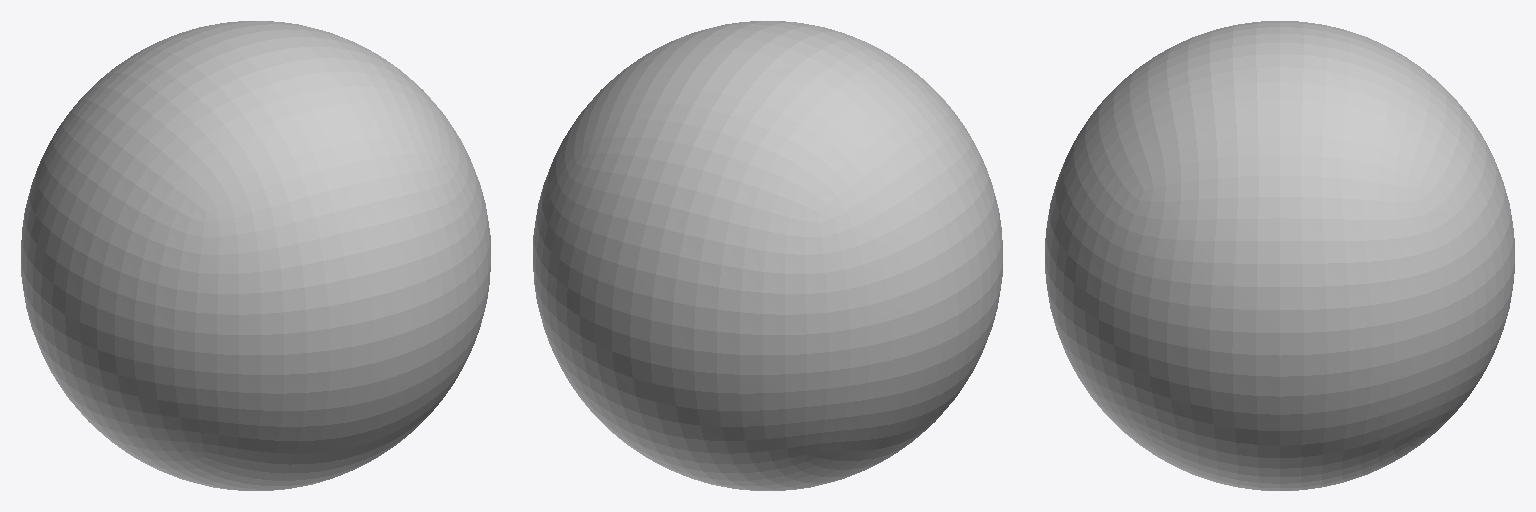
File: planet.obj
3 renders of one model, left to right at view 1: azimuth 30°, elevation 25°; view 2: azimuth 150°, elevation 25°; view 3: azimuth 270°, elevation 25°, orthographic.
Parts seen in each view (by area): view 1: planet_Cube.015; view 2: planet_Cube.015; view 3: planet_Cube.015.
Boxes of the visible parts, box(x1,y1,x2,y2) form: planet_Cube.015: box(21, 21, 490, 490); planet_Cube.015: box(533, 21, 1002, 490); planet_Cube.015: box(1045, 21, 1514, 490).
Size of the model in its own units: 1.34 by 1.34 by 1.34.